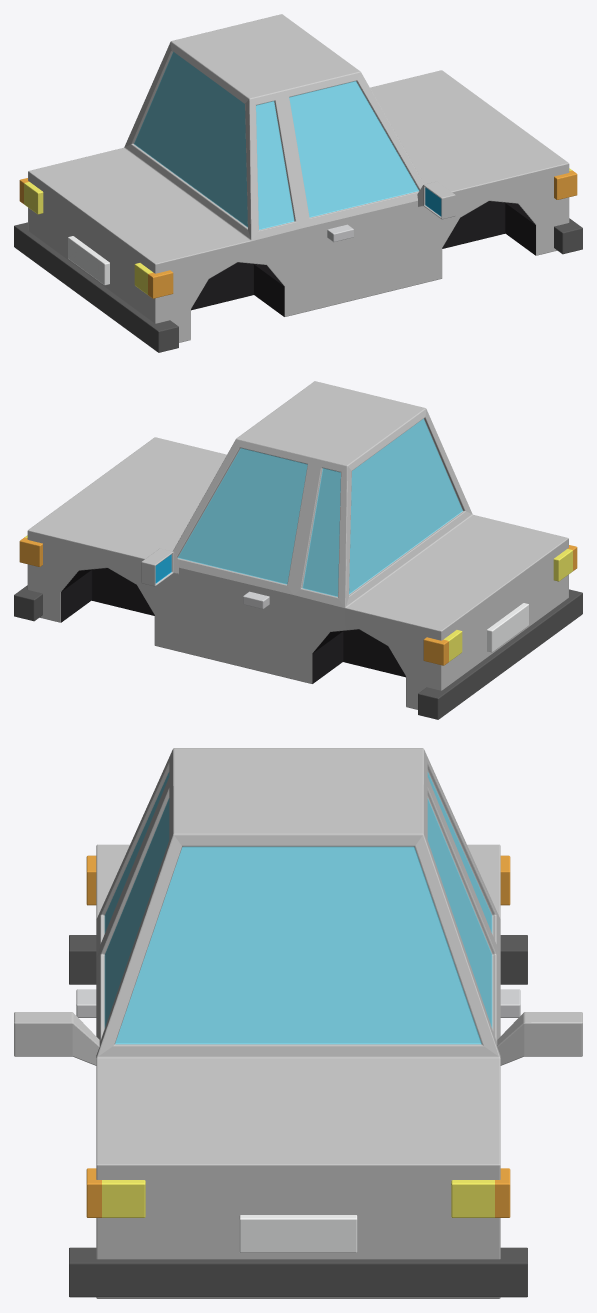
The model's file is Car_regular.fbx.
3 renders of one model, top to bottom at view 1: azimuth 30°, elevation 25°; view 2: azimuth 150°, elevation 25°; view 3: azimuth 270°, elevation 25°, orthographic. The views are drawn at different scales.
Parts seen in each view (by area): view 1: Car_Regular; view 2: Car_Regular; view 3: Car_Regular.
Boxes of the visible parts, left/top/right/bottom form: Car_Regular: left=14, top=14, right=582, bottom=352; Car_Regular: left=14, top=381, right=582, bottom=719; Car_Regular: left=14, top=748, right=582, bottom=1298.
Size of the model in its own units: 385 by 176 by 282.
